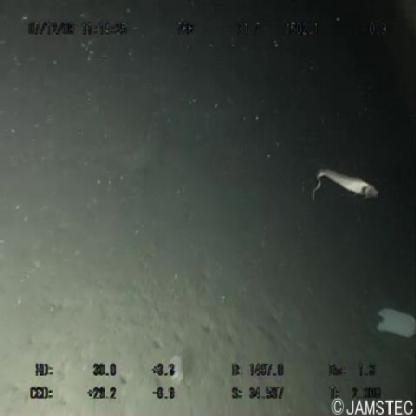Bio: (309, 166, 383, 212)
Rác: (372, 303, 416, 345)
